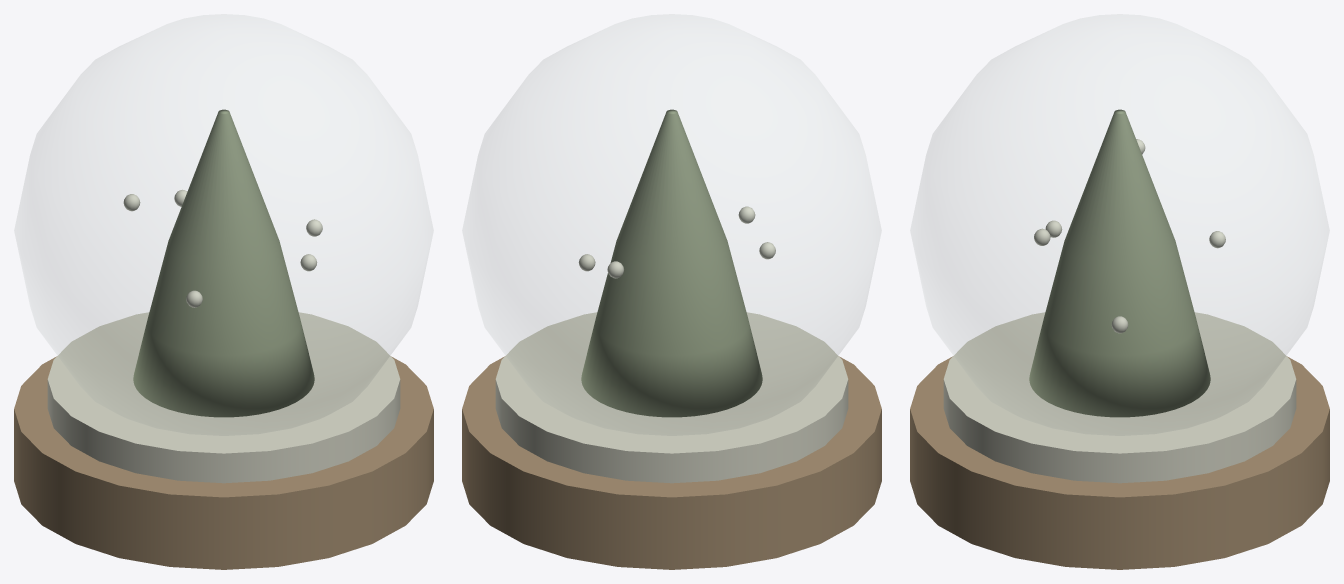
File: snowglobe.glb
The picture shows the model from 3 angles, left to right: view 1: azimuth 30°, elevation 25°; view 2: azimuth 150°, elevation 25°; view 3: azimuth 270°, elevation 25°; orthographic projection.
Parts seen in each view (by area): view 1: closed-globe, snowglobe-base, contained-snow-floor, miniature-pine; view 2: closed-globe, snowglobe-base, contained-snow-floor, miniature-pine; view 3: closed-globe, snowglobe-base, contained-snow-floor, miniature-pine.
Part boxes in pixels (x1,y1,x2,y2): closed-globe: (15, 14, 432, 435); snowglobe-base: (14, 356, 433, 569); contained-snow-floor: (47, 312, 400, 483); miniature-pine: (133, 109, 314, 417); closed-globe: (463, 14, 880, 435); snowglobe-base: (462, 356, 881, 569); contained-snow-floor: (495, 312, 848, 483); miniature-pine: (581, 109, 762, 417); closed-globe: (911, 14, 1328, 435); snowglobe-base: (910, 356, 1329, 569); contained-snow-floor: (943, 312, 1296, 483); miniature-pine: (1029, 109, 1210, 417).
Bounding box in the file's own units: 0.3 × 0.3536 × 0.3.
